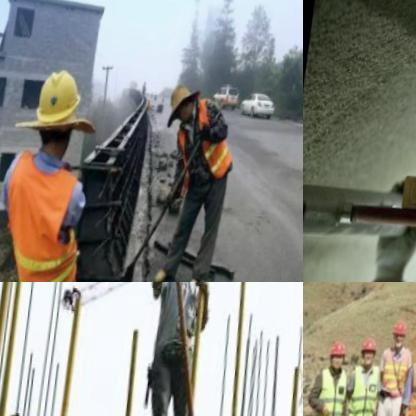helmet: (27, 63, 90, 162), (167, 82, 203, 128), (327, 338, 352, 376), (358, 336, 380, 372), (391, 318, 413, 354)
